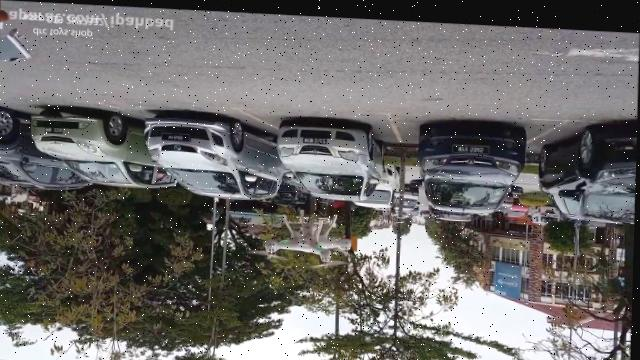drone: (263, 207, 353, 266)
